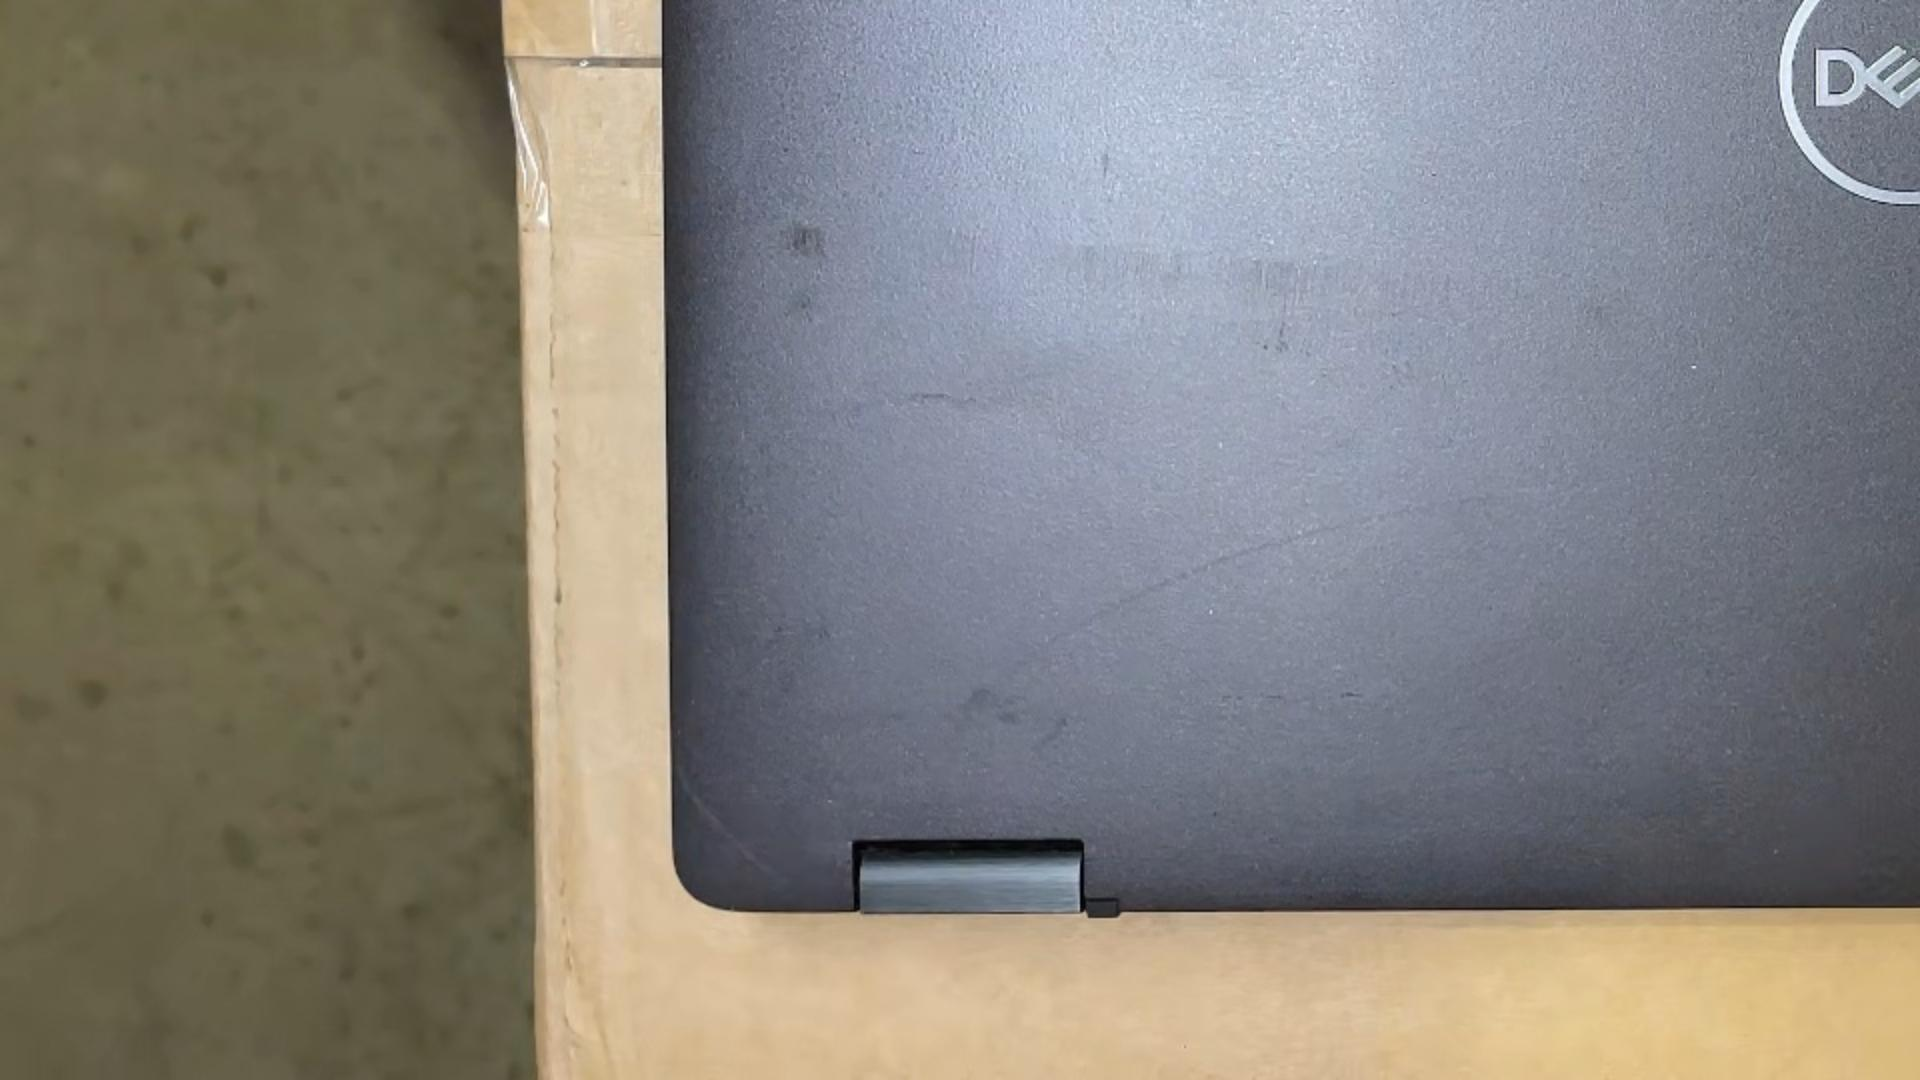scratches: (989, 491, 1502, 687), (676, 770, 793, 885), (1278, 294, 1288, 338), (915, 390, 949, 401), (1102, 148, 1109, 181), (1265, 694, 1283, 702), (1342, 691, 1361, 699)
